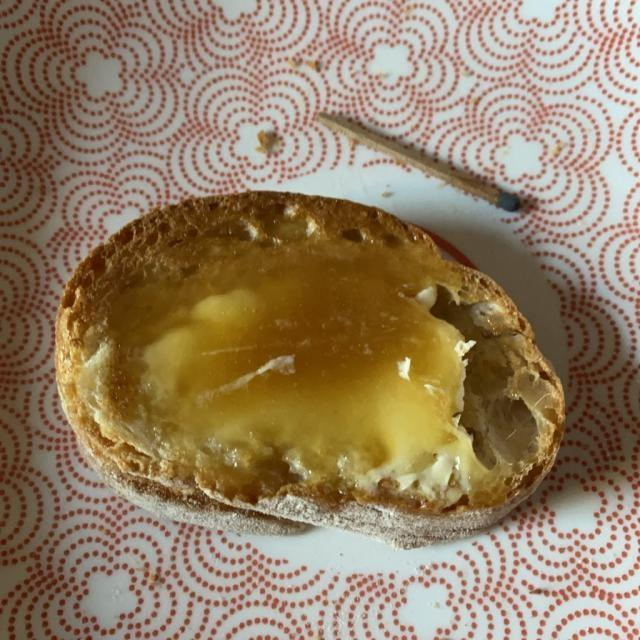bread: (58, 198, 559, 537)
butter: (154, 273, 476, 515)
honey: (104, 217, 469, 492)
